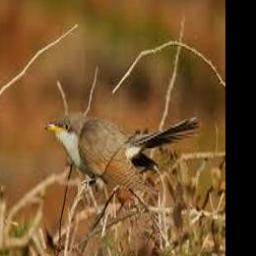Cuckoo: (43, 114, 198, 189)
